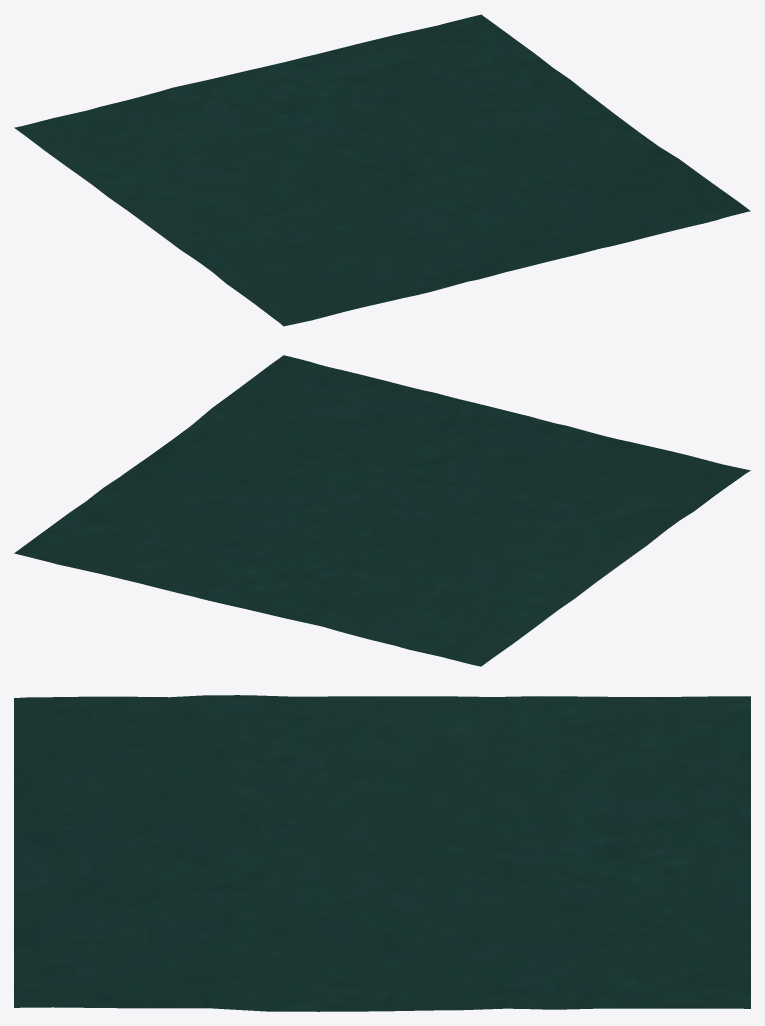
3 renders of one model, top to bottom at view 1: azimuth 30°, elevation 25°; view 2: azimuth 150°, elevation 25°; view 3: azimuth 270°, elevation 25°, orthographic. The views are drawn at different scales.
Bounding box in the file's own units: 52.22 × 0.5134 × 52.22.
Materials: 2 (2 with a texture image).
